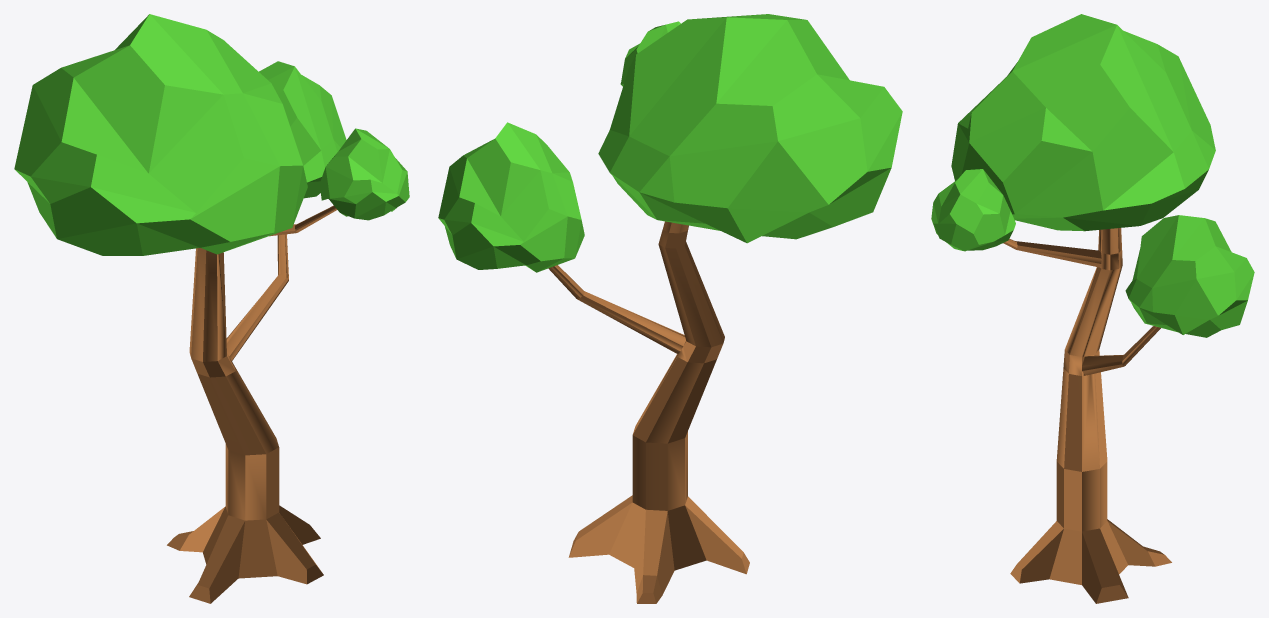
The model's file is long.glb.
The picture shows the model from 3 angles, left to right: view 1: azimuth 30°, elevation 25°; view 2: azimuth 150°, elevation 25°; view 3: azimuth 270°, elevation 25°; orthographic projection. The views are drawn at different scales.
Visible parts, largest first — view 1: piccolo2, Cylinder, piccolo_1, piccolo; view 2: piccolo2, Cylinder, piccolo, piccolo_1; view 3: piccolo2, Cylinder, piccolo, piccolo_1.
Part boxes in pixels (<box>): piccolo2: <box>14,14,307,255</box>; Cylinder: <box>167,205,337,603</box>; piccolo_1: <box>319,128,409,220</box>; piccolo: <box>259,61,346,198</box>; piccolo2: <box>598,14,902,243</box>; Cylinder: <box>548,221,749,603</box>; piccolo: <box>438,122,584,272</box>; piccolo_1: <box>620,21,680,86</box>; piccolo2: <box>951,14,1215,231</box>; Cylinder: <box>1003,228,1171,603</box>; piccolo: <box>1125,215,1254,337</box>; piccolo_1: <box>931,169,1015,251</box>.
Size of the model in its own units: 745 by 1120 by 636.
